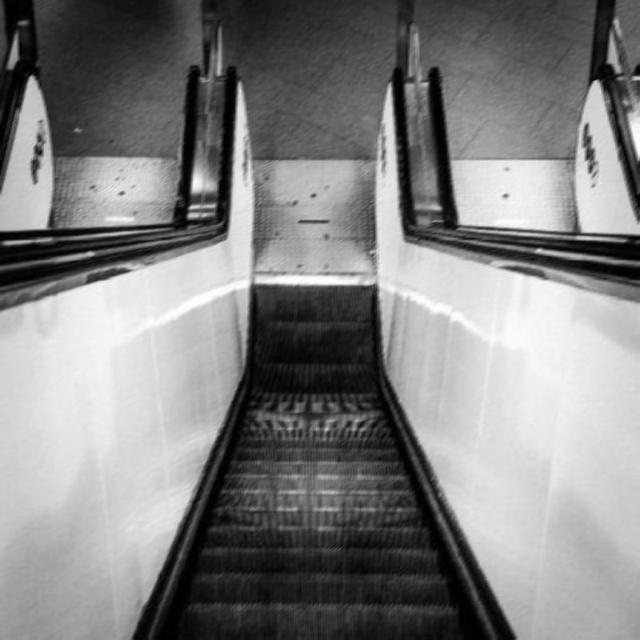stair: (165, 287, 470, 640)
